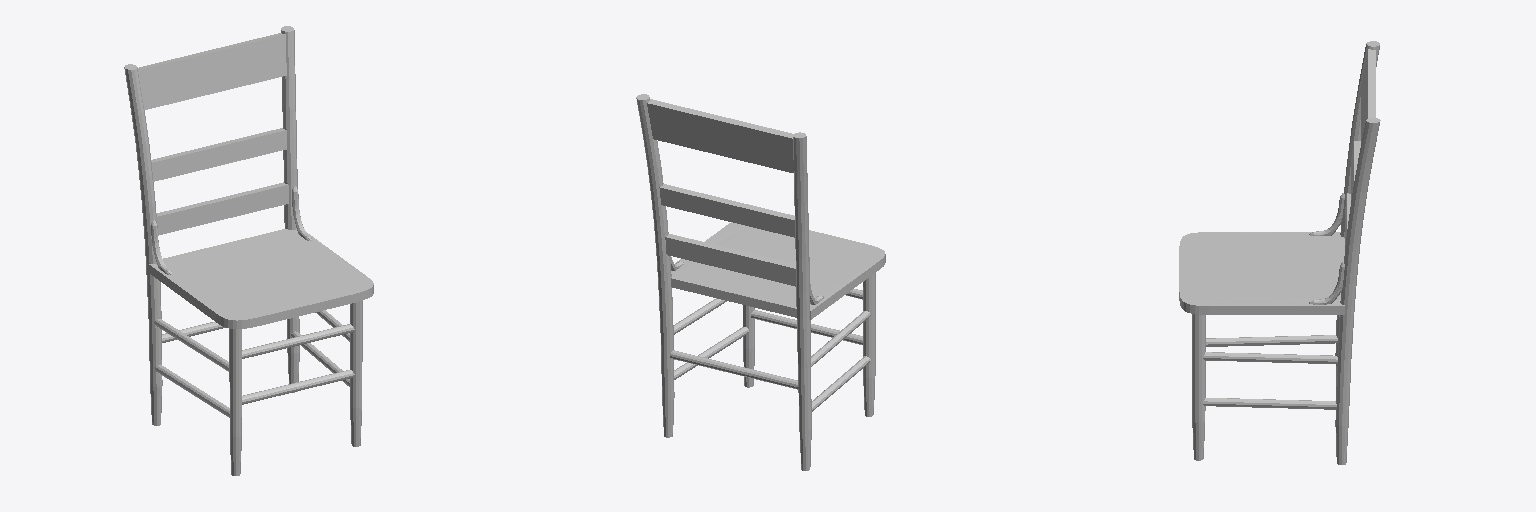
File: chair-obj.obj
3 views of the same model, side by side, from view 1: azimuth 30°, elevation 25°; view 2: azimuth 150°, elevation 25°; view 3: azimuth 270°, elevation 25° (orthographic).
Visible parts, largest first — view 1: obj1; view 2: obj1; view 3: obj1.
Part boxes in pixels (bbox=[...]): obj1: bbox=[124, 26, 373, 475]; obj1: bbox=[636, 94, 885, 470]; obj1: bbox=[1179, 41, 1380, 464].
Size of the model in its own units: 0.6394 by 1.26 by 0.6621.